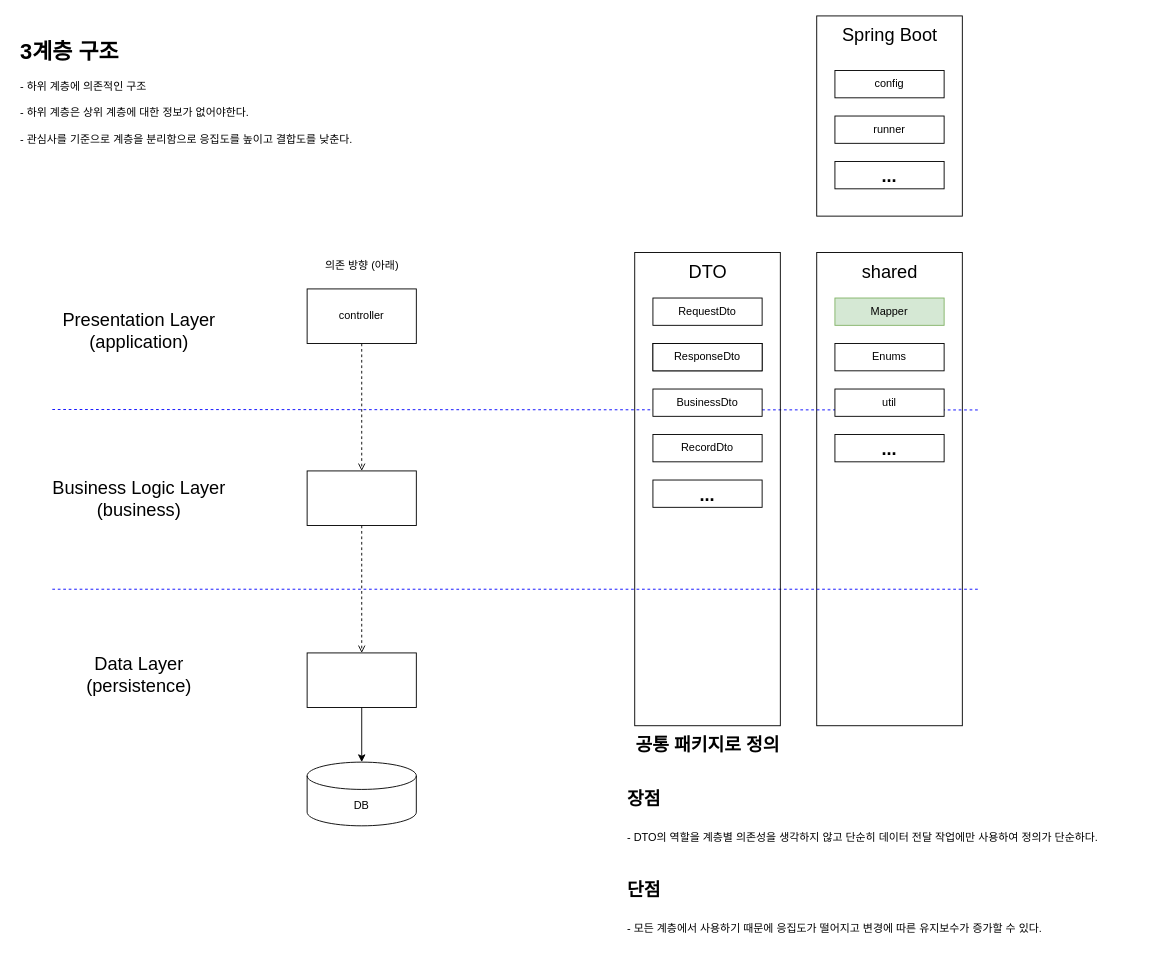
Some shapes in this 1168 by 960 pixel diagram are drawn without their labels. The shapes that lost their labels are listed below. From the top down, each one's centre as x and y in pixels, then its label:
At (361,498): "Service".
At (361,680): "Repository".
